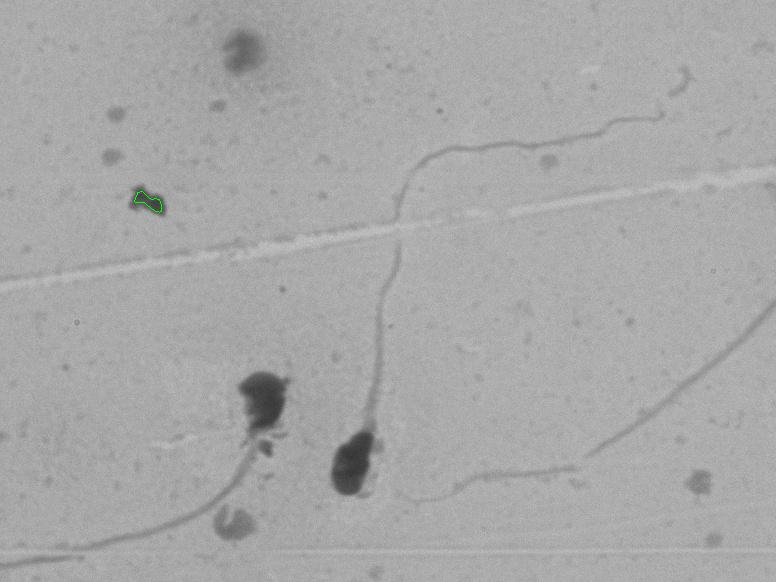Abnormal: (320, 68, 671, 518), (24, 301, 296, 572)
